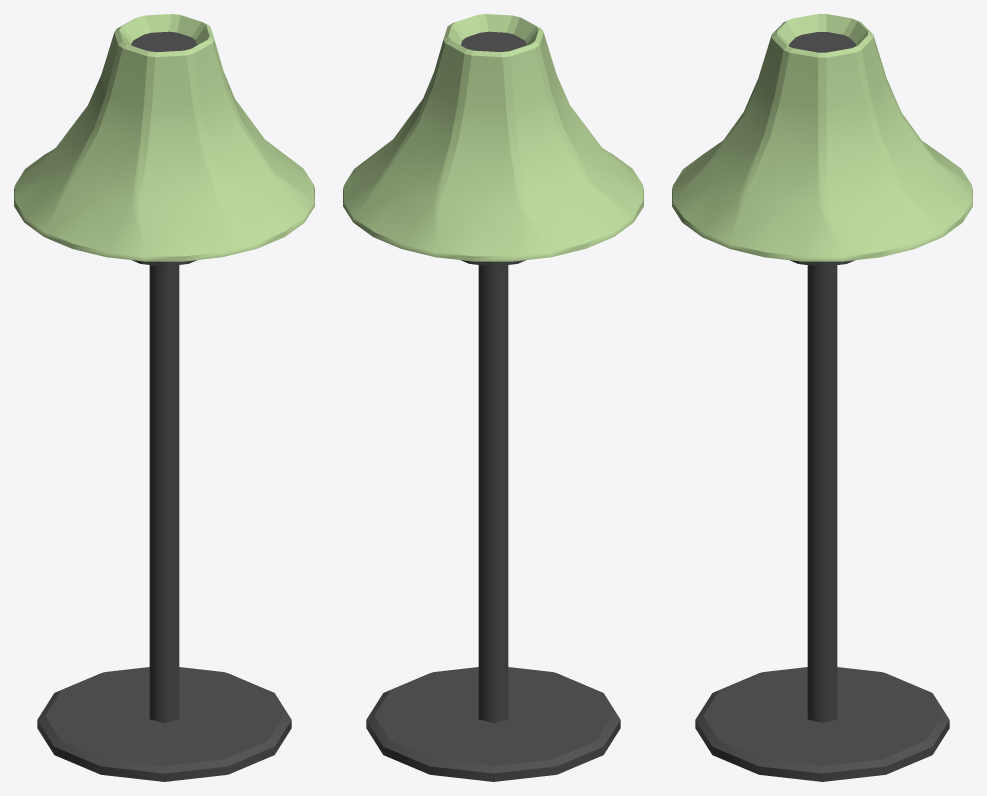
File: lamp_01.fbx
3 renders of one model, left to right at view 1: azimuth 30°, elevation 25°; view 2: azimuth 150°, elevation 25°; view 3: azimuth 270°, elevation 25°, orthographic.
Visible parts, largest first — view 1: pCylinder123, pCylinder162; view 2: pCylinder123, pCylinder162; view 3: pCylinder123, pCylinder162.
Part boxes in pixels (x1=…): pCylinder123: x1=14, y1=14, x2=314, y2=261; pCylinder162: x1=37, y1=31, x2=291, y2=781; pCylinder123: x1=343, y1=14, x2=643, y2=261; pCylinder162: x1=366, y1=31, x2=620, y2=781; pCylinder123: x1=672, y1=14, x2=972, y2=261; pCylinder162: x1=695, y1=32, x2=949, y2=781.
Bounding box in the file's own units: 3.9 × 9.93 × 3.9.
